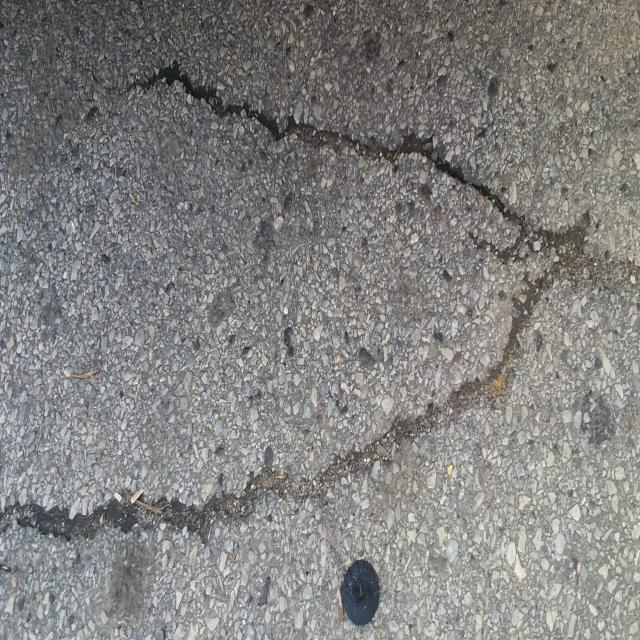Crack: (0, 58, 640, 545)
